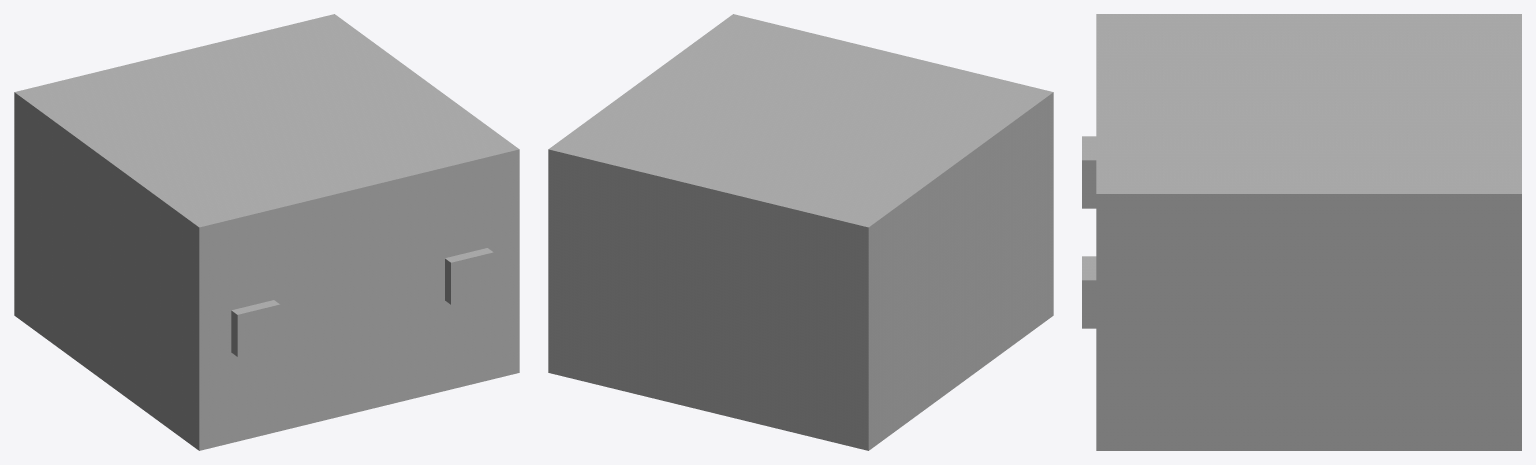
Rendered from graphics room.FBX.
The picture shows the model from 3 angles, left to right: view 1: azimuth 30°, elevation 25°; view 2: azimuth 150°, elevation 25°; view 3: azimuth 270°, elevation 25°; orthographic projection. The views are drawn at different scales.
Parts seen in each view (by area): view 1: room; view 2: room; view 3: room.
Boxes of the visible parts, x1,y1,x2,y2 form: room: [14, 14, 519, 450]; room: [548, 14, 1053, 450]; room: [1082, 14, 1521, 450].
Size of the model in its own units: 304 by 202 by 314.
